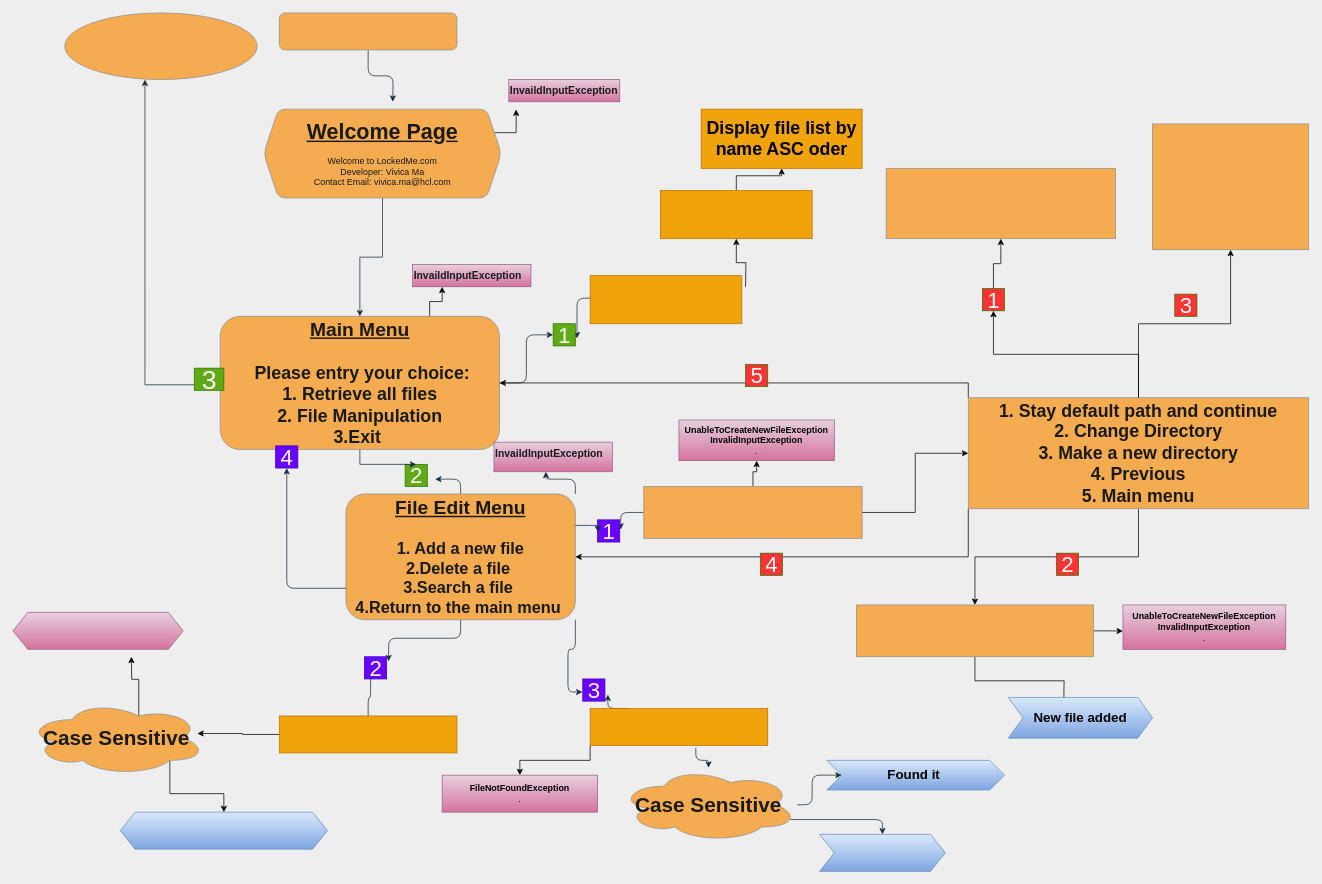
The diagram is 1322 pixels wide and 884 high, and some of its shapes have lost their labels. Each missing label, with the centre of its shape:
"Add a new file" belongs at pixel 752 512.
"Choose Directory" belongs at pixel 736 214.
"Delete a file" belongs at pixel 368 734.
"Enter file Name Your file < file name> has been added successfully." belongs at pixel 1000 203.
"Enter new directory name Enter file name" belongs at pixel 974 630.
"Exit Program" belongs at pixel 160 46.
"File Not found." belongs at pixel 882 852.
"Make a new directory" belongs at pixel 1230 186.
"Retrieve all files" belongs at pixel 665 299.
"Search a file" belongs at pixel 678 727.
"Start Program" belongs at pixel 368 31.
"successfully delete" belongs at pixel 223 830.
"UnableToDeleteFileException File not found." belongs at pixel 97 630.
